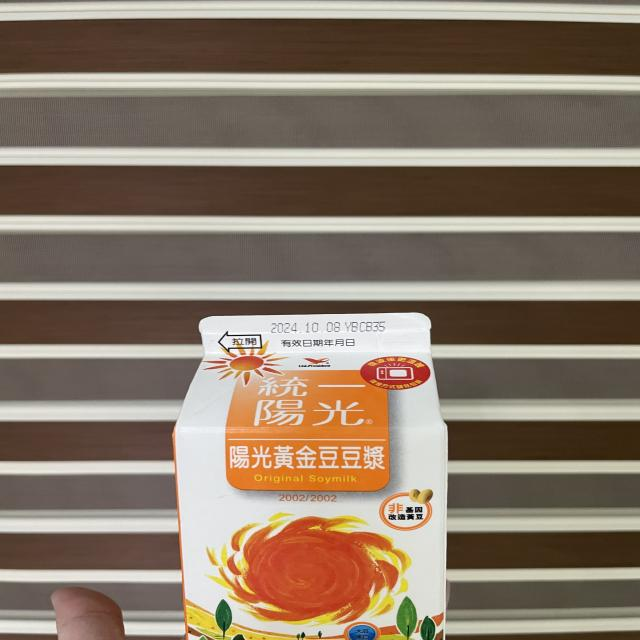TongYi_SoyMilk: (174, 307, 453, 640)
